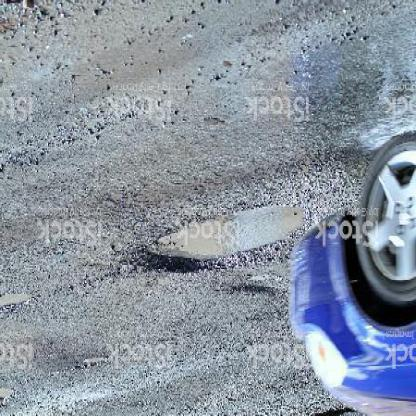pothole: (132, 201, 313, 278), (2, 294, 35, 313)
